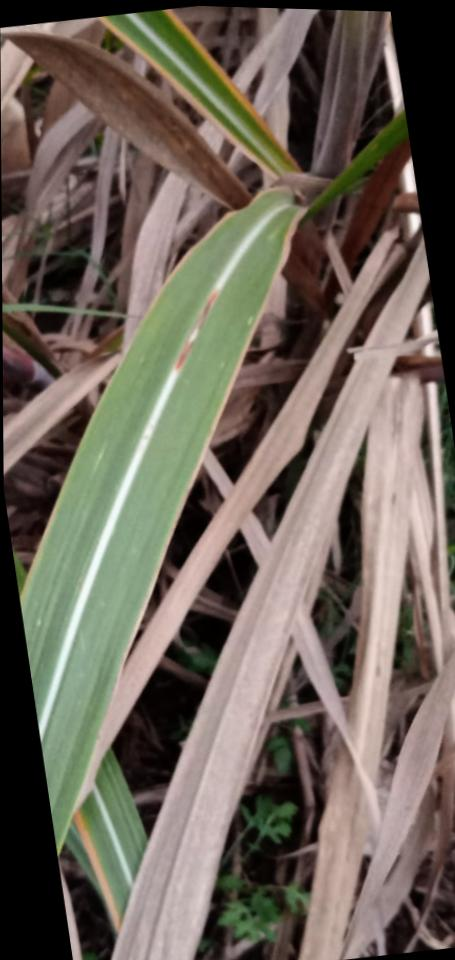RedRot: (174, 290, 216, 369)
Yellow: (97, 16, 278, 177), (161, 9, 304, 172)
